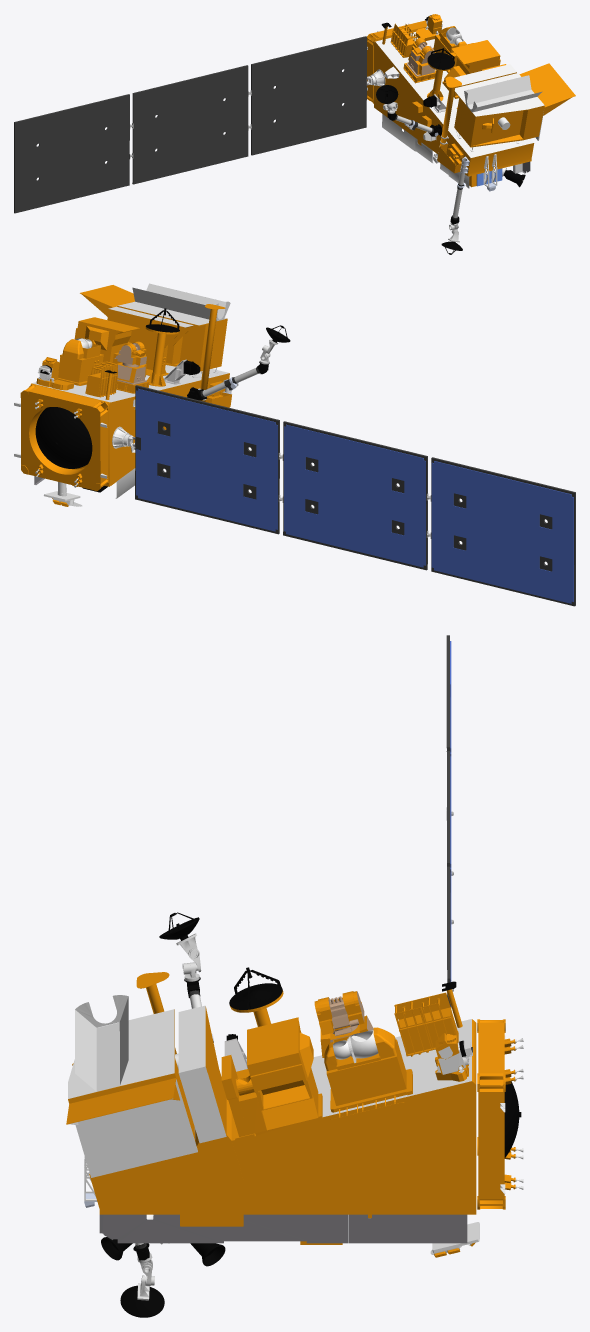
Rendered from noaa20.glb.
3 renders of one model, top to bottom at view 1: azimuth 30°, elevation 25°; view 2: azimuth 150°, elevation 25°; view 3: azimuth 270°, elevation 25°, orthographic. The views are drawn at different scales.
Parts seen in each view (by area): view 1: Part__Panel_011.001, Part__1_Body_016; view 2: Part__Panel_011.001, Part__1_Body_016; view 3: Part__1_Body_016, Part__Panel_011.001.
Boxes of the visible parts, x1,y1,x2,y2 form: Part__Panel_011.001: (14, 36, 366, 213); Part__1_Body_016: (130, 14, 575, 254); Part__Panel_011.001: (135, 385, 575, 606); Part__1_Body_016: (14, 283, 431, 538); Part__1_Body_016: (66, 807, 523, 1317); Part__Panel_011.001: (446, 635, 451, 1007).
Bounding box in the file's own units: 11.17 × 4.18 × 4.75.
